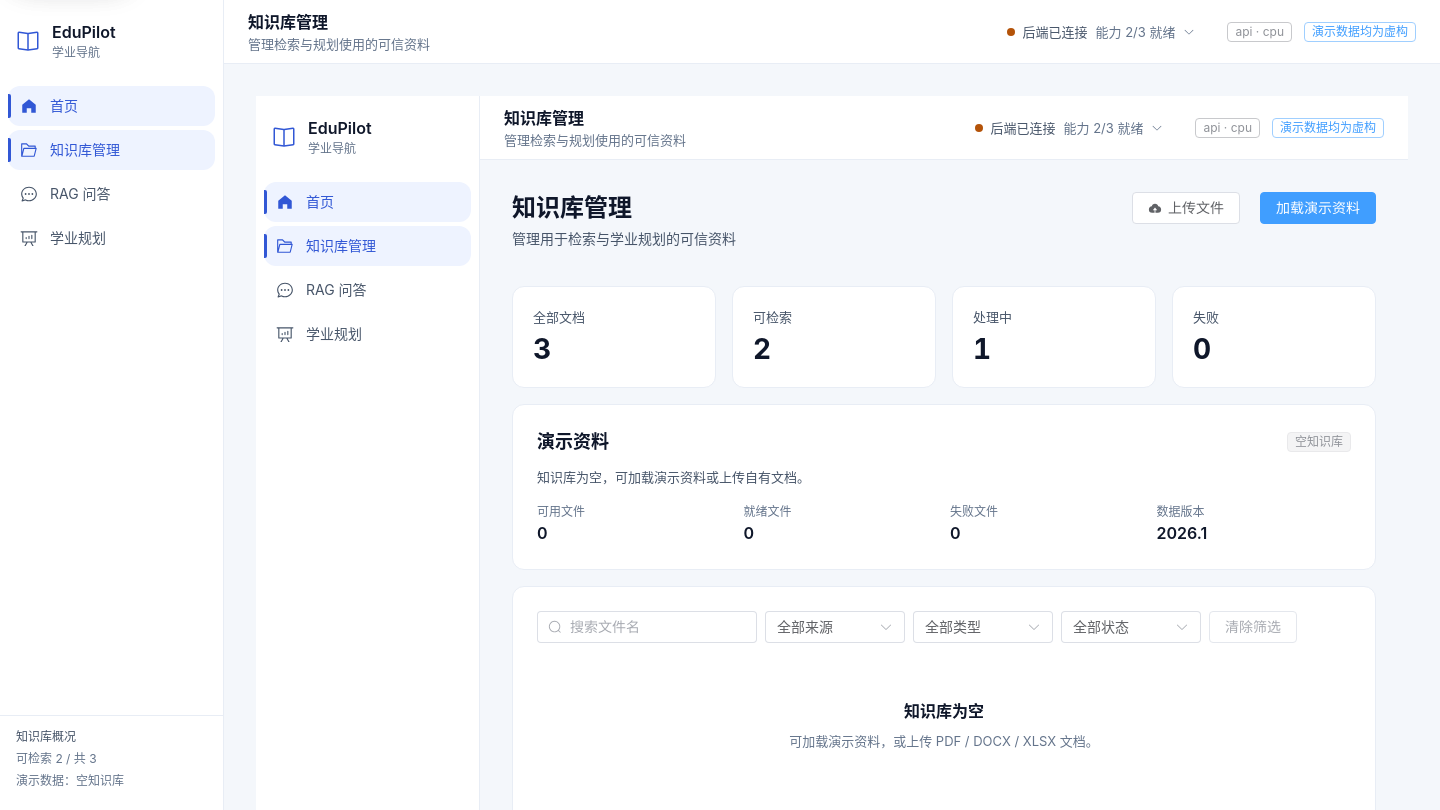
Test: AppLayout › keeps the empty-library semantics: documents usable while chat is unavailable
Expected: the 1st text with class "ep-status__hint" reads "能力 2/3 就绪", [1096,24,1176,40]
Click the 1st button with class "ep-status": x=1101, y=32 [998,20,1204,44]
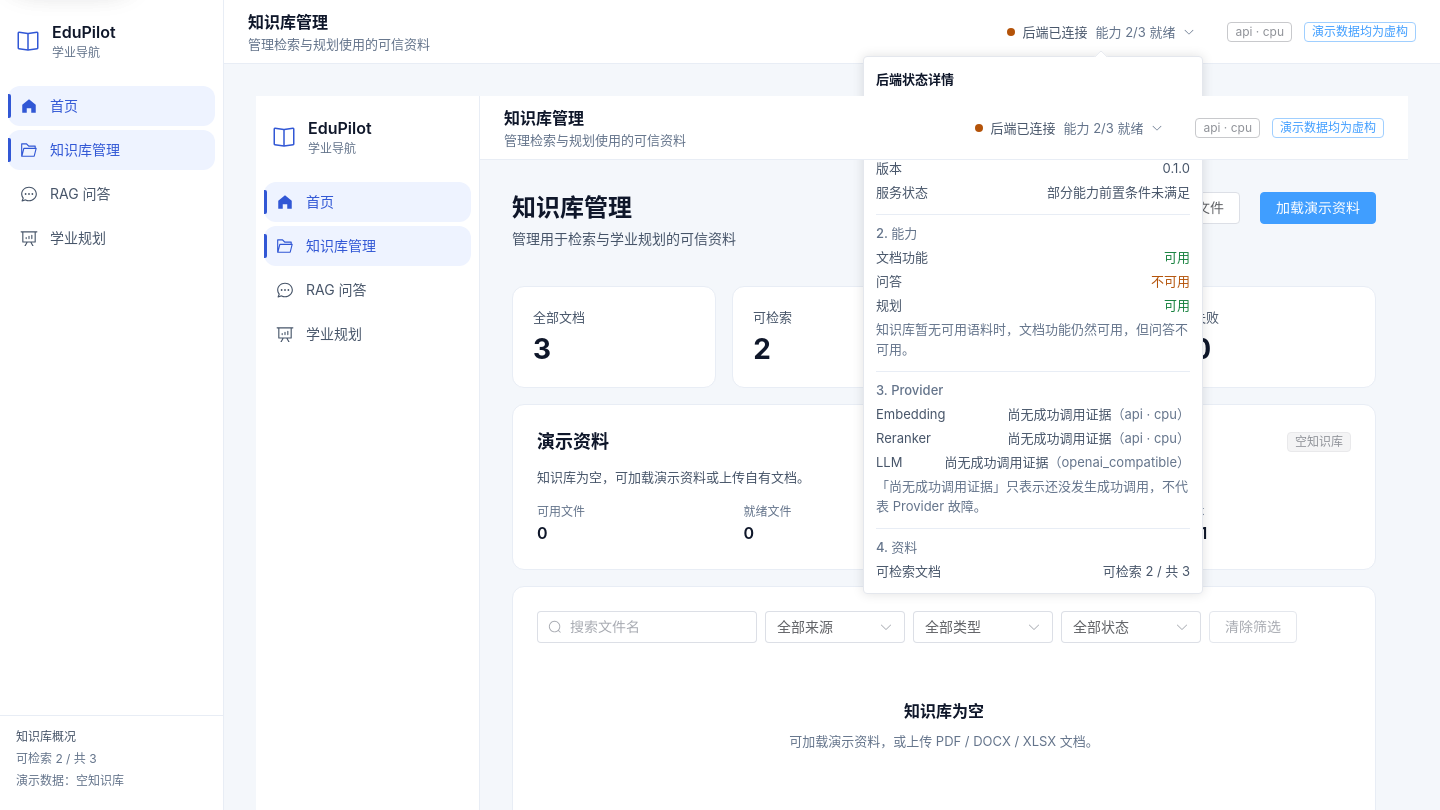
Expected: the element with class "ep-health__layer" shows "文档功能", [876,249,928,265]
Expected: the element with class "ep-health__layer" shows "问答", [876,273,902,289]
Expected: the element with class "ep-health__layer" shows "不可用", [1151,273,1190,289]
